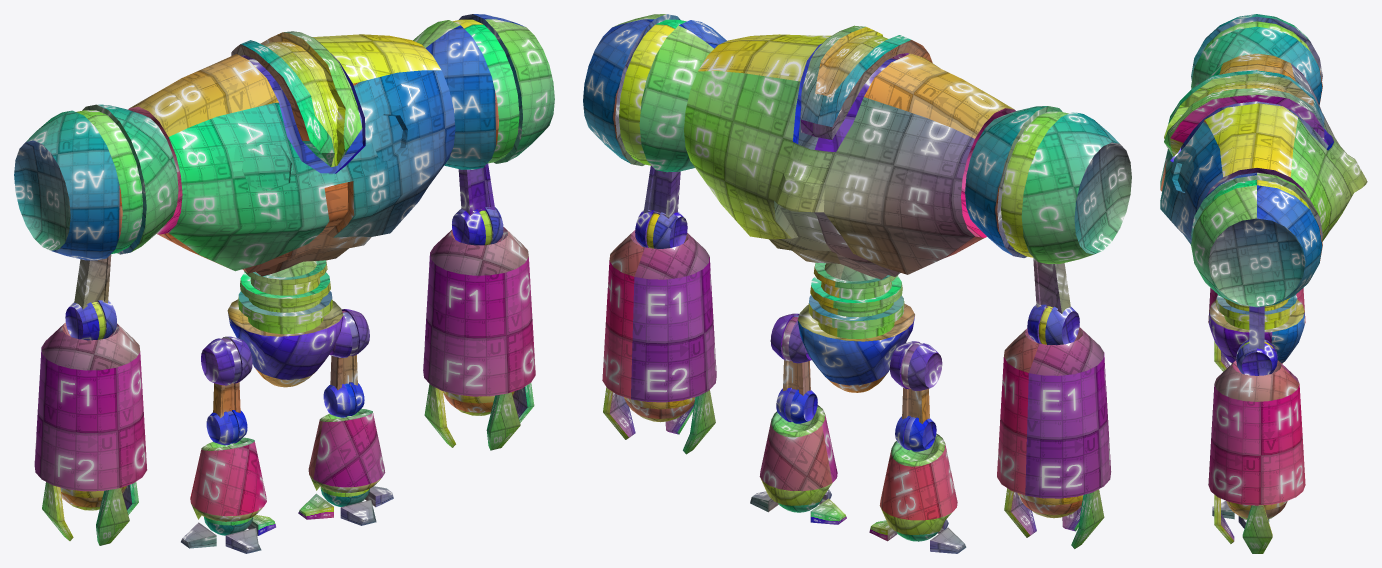
The model's file is Robot_Model.fbx.
3 renders of one model, left to right at view 1: azimuth 30°, elevation 25°; view 2: azimuth 150°, elevation 25°; view 3: azimuth 270°, elevation 25°, orthographic. The views are drawn at different scales.
Visible parts, largest first — view 1: pCylinder18, pCylinder32, polySurface10, pCylinder8, pCube33, pCylinder14, pCube41, pCylinder15, pCylinder31, polySurface5, pCube34, polySurface8 (+6 smaller); view 2: pCylinder18, pCylinder32, polySurface10, pCylinder8, pCube33, pCylinder14, pCylinder15, pCube41, pCylinder31, polySurface5, pCube34, polySurface8 (+4 smaller); view 3: pCylinder32, pCylinder18, polySurface10, pCube33, pCylinder15, pCube41, pCylinder14, pCylinder31, pCube34, pSphere3.
Part boxes in pixels (<box>): pCylinder18: <box>128,34,455,276</box>; pCylinder32: <box>14,14,554,260</box>; polySurface10: <box>34,227,535,491</box>; pCylinder8: <box>190,408,385,521</box>; pCube33: <box>231,31,362,167</box>; pCylinder14: <box>238,260,332,334</box>; pCube41: <box>42,383,534,545</box>; pCylinder15: <box>227,299,343,387</box>; pCylinder31: <box>65,207,503,340</box>; polySurface5: <box>201,309,369,385</box>; pCube34: <box>74,163,495,309</box>; polySurface8: <box>206,382,364,445</box>; pCylinder18: <box>684,34,1015,279</box>; pCylinder32: <box>583,14,1131,264</box>; polySurface10: <box>602,230,1111,498</box>; pCylinder8: <box>759,405,957,534</box>; pCube33: <box>801,25,932,139</box>; pCylinder14: <box>808,262,904,338</box>; pCylinder15: <box>797,303,914,392</box>; pCube41: <box>603,387,1104,548</box>; pCylinder31: <box>635,210,1079,345</box>; polySurface5: <box>770,313,942,390</box>; pCube34: <box>643,166,1070,313</box>; polySurface8: <box>776,387,936,451</box>; pCylinder32: <box>1191,14,1322,307</box>; pCylinder18: <box>1160,53,1367,244</box>; polySurface10: <box>1208,288,1305,505</box>; pCube33: <box>1164,70,1324,156</box>; pCylinder15: <box>1209,299,1304,363</box>; pCube41: <box>1214,341,1272,553</box>; pCylinder14: <box>1216,295,1297,329</box>; pCylinder31: <box>1236,339,1277,375</box>; pCube34: <box>1249,306,1264,349</box>; pSphere3: <box>1226,501,1287,519</box>.
Bounding box in the file's own units: 4.32 × 4.04 × 1.86.
